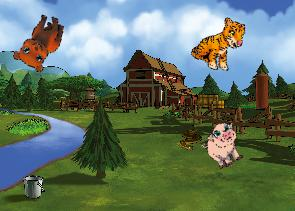bear: (10, 7, 67, 75)
pig: (197, 118, 250, 173)
tiger: (188, 10, 249, 76)
